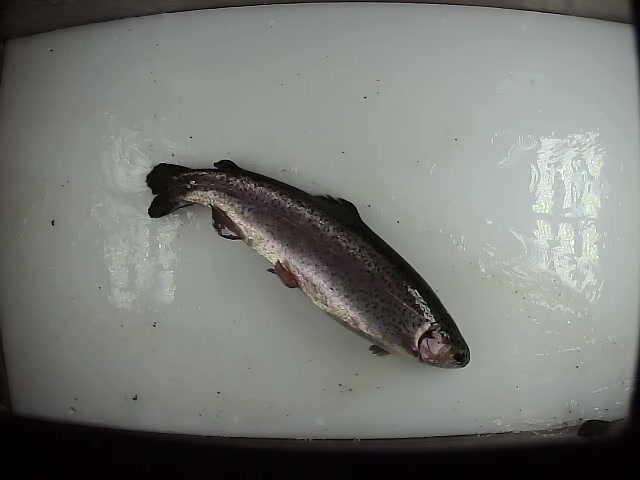fish: (145, 155, 471, 371)
